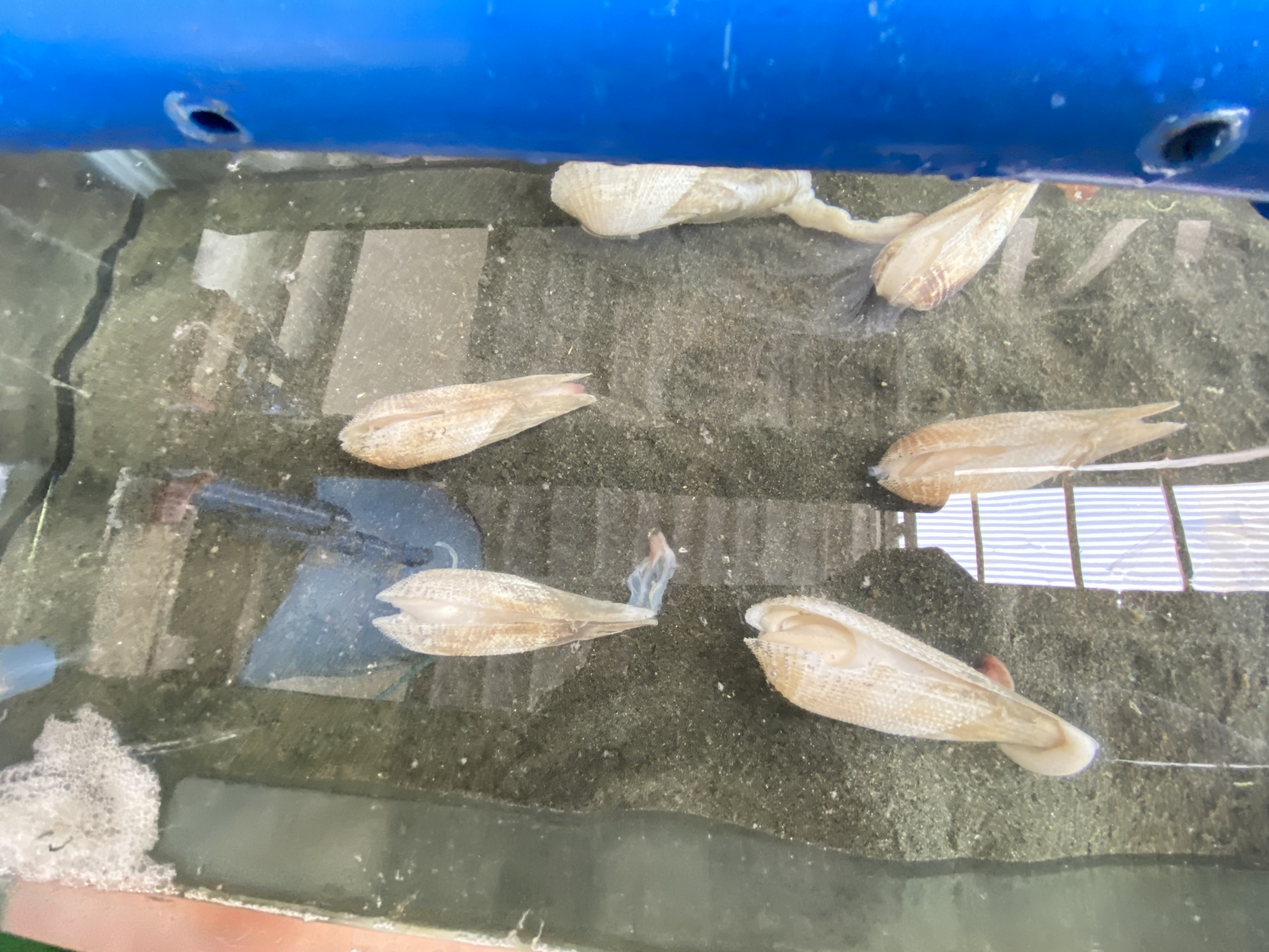At risk: (551, 161, 1039, 310), (747, 598, 1097, 776), (373, 534, 675, 656), (878, 401, 1186, 505), (340, 374, 595, 468)
